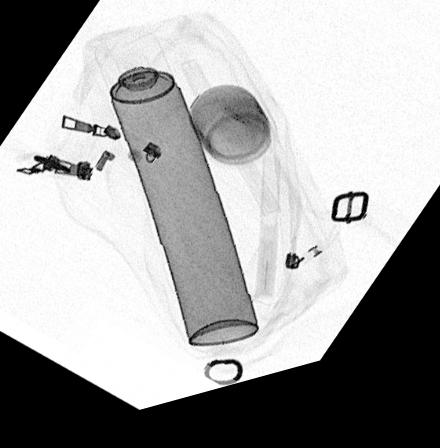Sprayer: (89, 30, 260, 360)
